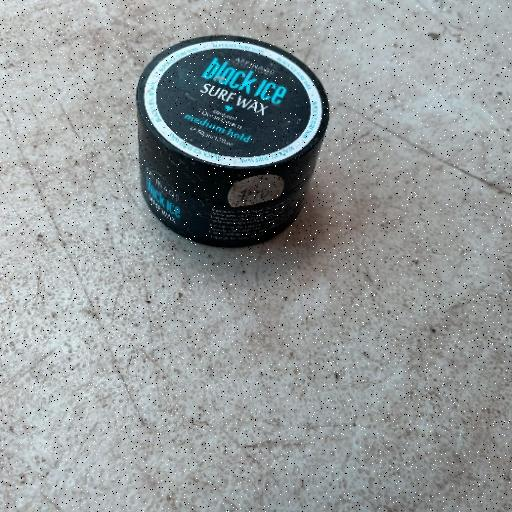Plastic: (133, 32, 331, 249)
